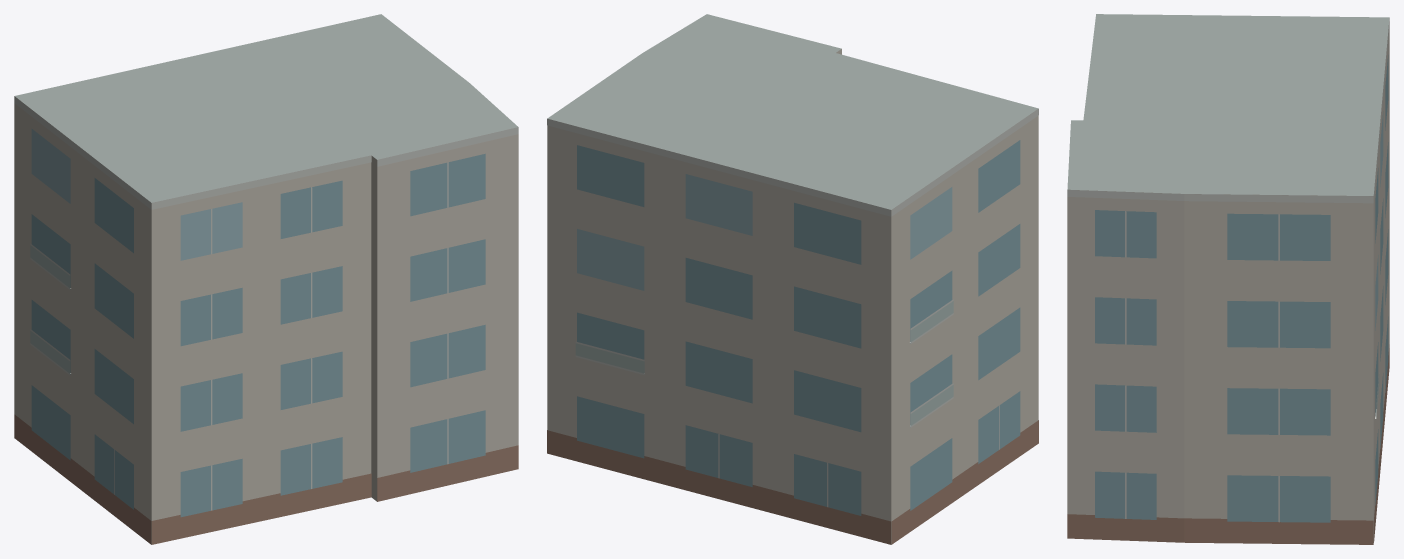
The model's file is survey-upis-32773392.glb.
The picture shows the model from 3 angles, left to right: view 1: azimuth 30°, elevation 25°; view 2: azimuth 150°, elevation 25°; view 3: azimuth 270°, elevation 25°; orthographic projection. The views are drawn at different scales.
Parts seen in each view (by area): view 1: survey-upis-32773392.tmp; view 2: survey-upis-32773392.tmp; view 3: survey-upis-32773392.tmp.
Boxes of the visible parts, <box> form: survey-upis-32773392.tmp: <box>14,14,518,544</box>; survey-upis-32773392.tmp: <box>547,14,1038,544</box>; survey-upis-32773392.tmp: <box>1067,14,1389,544</box>.
Bounding box in the file's own units: 13.28 × 11.85 × 9.93.
